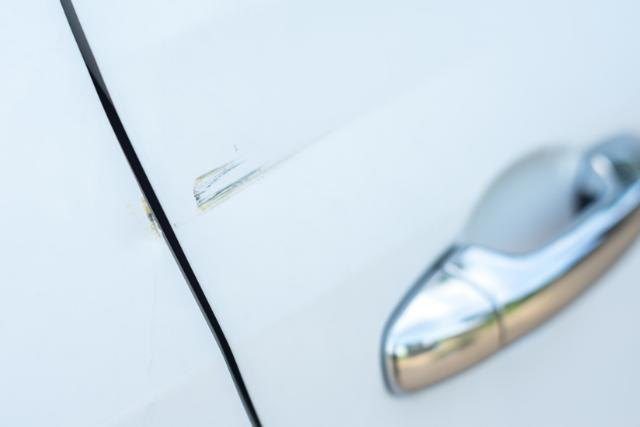Door: (183, 123, 273, 239)
